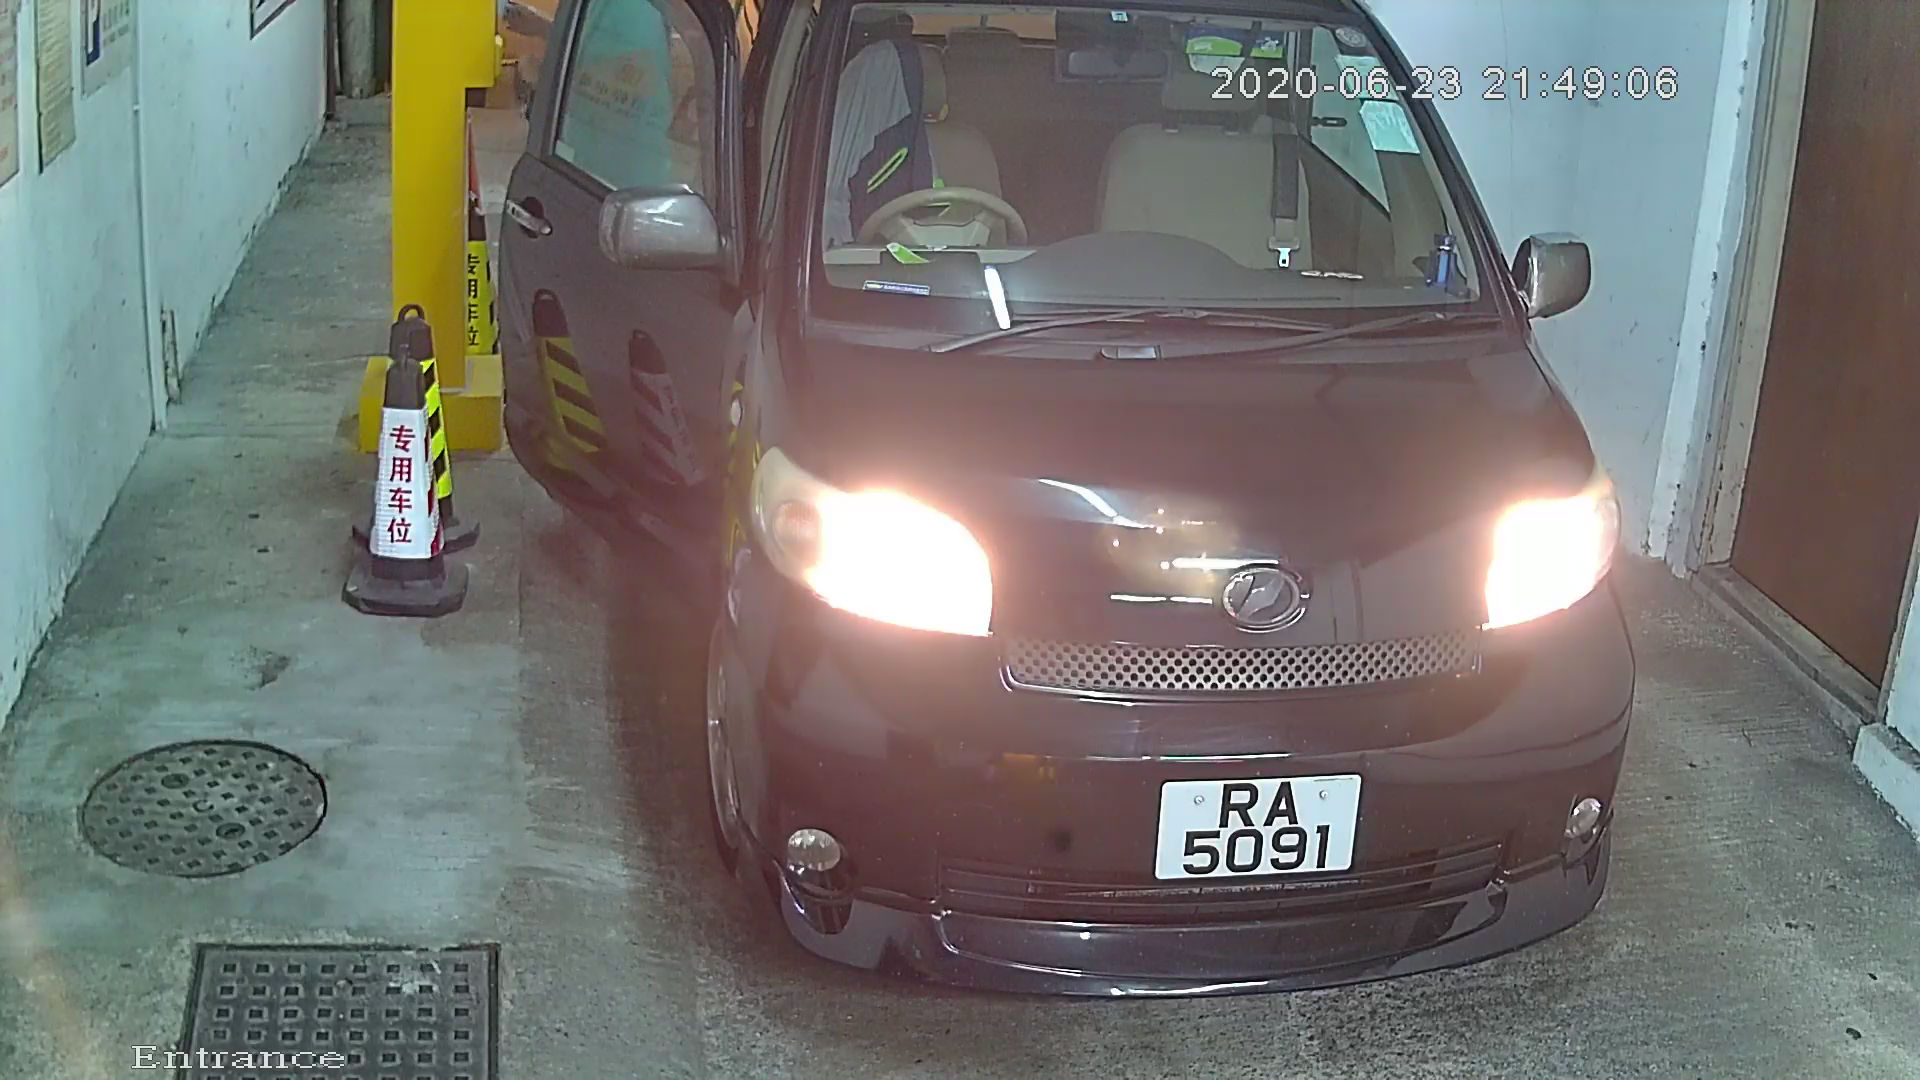privatecar: (493, 3, 1644, 1021)
